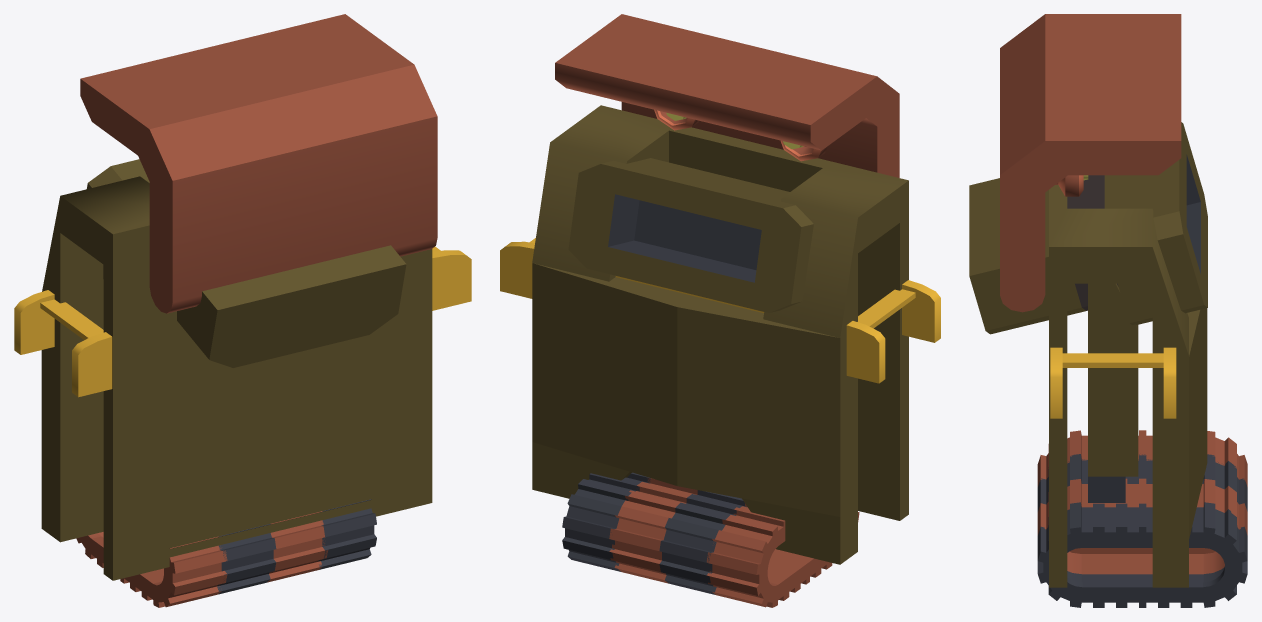
File: flagstone.glb
The picture shows the model from 3 angles, left to right: view 1: azimuth 30°, elevation 25°; view 2: azimuth 150°, elevation 25°; view 3: azimuth 270°, elevation 25°; orthographic projection. The views are drawn at different scales.
Parts seen in each view (by area): view 1: mergedBlocks(Clone); view 2: mergedBlocks(Clone); view 3: mergedBlocks(Clone).
Part boxes in pixels (bbox=[...]): mergedBlocks(Clone): bbox=[14, 14, 471, 607]; mergedBlocks(Clone): bbox=[500, 14, 940, 607]; mergedBlocks(Clone): bbox=[969, 14, 1247, 607].
Bounding box in the file's own units: 1.95 × 2.34 × 1.22.
1 material, 1 textured.
